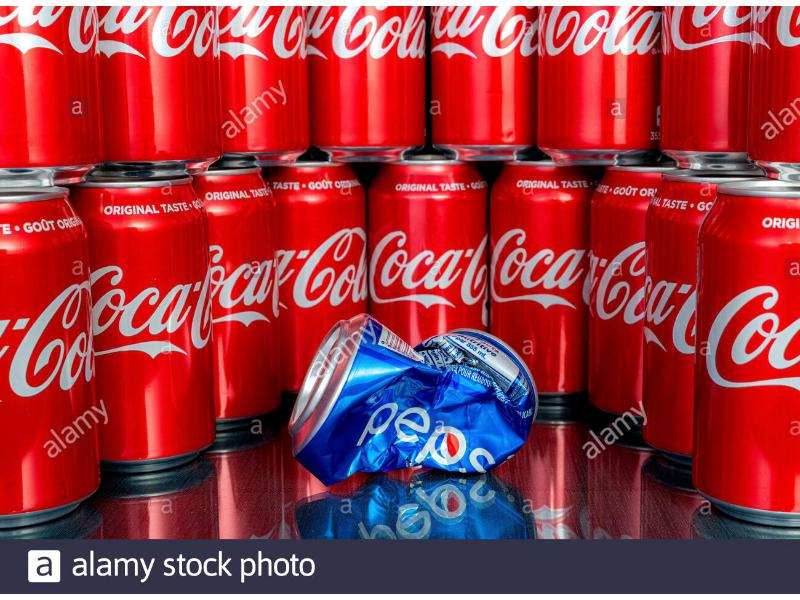can: (86, 176, 217, 466), (0, 186, 107, 530), (703, 185, 799, 522), (488, 157, 588, 394), (275, 162, 368, 396), (201, 169, 287, 417), (372, 161, 492, 332), (108, 4, 221, 181), (540, 5, 657, 164), (1, 5, 104, 183), (312, 5, 429, 159), (435, 4, 536, 161), (589, 170, 645, 434), (664, 8, 751, 172), (223, 4, 311, 164), (649, 170, 696, 456), (753, 5, 796, 178)
